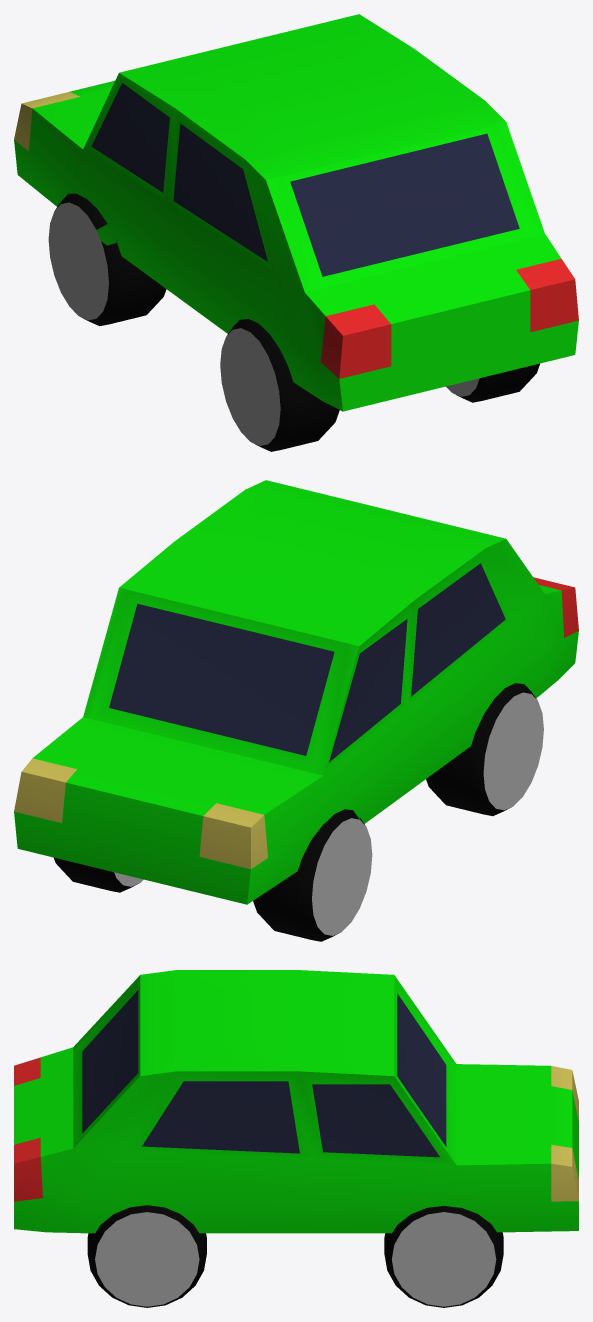
Rendered from Car_Green.fbx.
3 renders of one model, top to bottom at view 1: azimuth 30°, elevation 25°; view 2: azimuth 150°, elevation 25°; view 3: azimuth 270°, elevation 25°, orthographic. The views are drawn at different scales.
Visible parts, largest first — view 1: pCube1, pCylinder4, pCylinder3, pCylinder1; view 2: pCube1, pCylinder3, pCylinder4, pCylinder2; view 3: pCube1, pCylinder1, pCylinder2.
Part boxes in pixels (x1,y1,x2,y2): pCube1: (14,14,578,411); pCylinder4: (220,319,339,451); pCylinder3: (48,193,166,326); pCylinder1: (446,363,539,402); pCube1: (14,480,578,904); pCylinder3: (253,809,372,941); pCylinder4: (426,683,543,816); pCylinder2: (54,857,143,892); pCube1: (14,970,578,1233); pCylinder1: (87,1205,206,1307); pCylinder2: (384,1206,503,1307).
Size of the model in its own units: 3.11 by 3.12 by 6.72.
